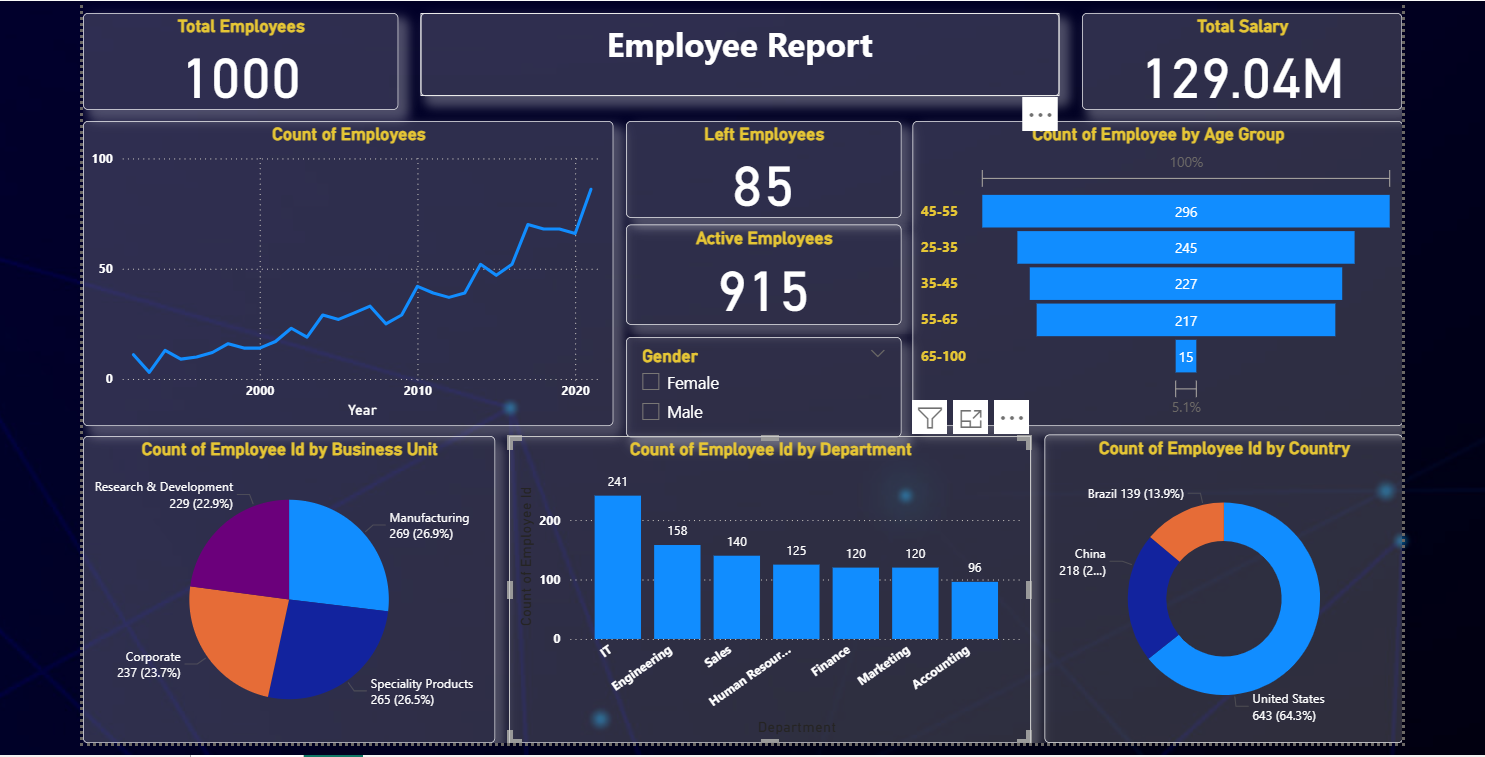

The dashboard page shown, as its layout file describes it:
{"tool":"powerbi","page":{"name":"Page 1","canvas":[1280,720],"ordinal":0},"visuals":[{"type":"lineChart","title":"Count of Employees","fields":{"Category":["Employee.Hire Date.Variation.Date Hierarchy.Year"],"Y":["CountNonNull(Employee.Employee Id)"]},"box":[0,116.6,514.9,296.3],"z":0},{"type":"funnel","title":"Count of Employee  by Age Group","fields":{"Category":["Employee.Age Group"],"Y":["CountNonNull(Employee.Employee Id)"]},"box":[804.8,116.6,476.1,296.3],"z":1000},{"type":"pieChart","fields":{"Category":["Employee.Business Unit"],"Y":["CountNonNull(Employee.Employee Id)"]},"box":[0,422.6,399.9,297.9],"z":2000},{"type":"columnChart","fields":{"Category":["Employee.Department"],"Y":["CountNonNull(Employee.Employee Id)"]},"box":[412.9,422.6,506.8,297.9],"z":3000},{"type":"card","title":"Total Employees","fields":{"Values":["CountNonNull(Employee.Employee Id)"]},"box":[0,11.3,306,93.9],"z":4000},{"type":"card","title":"Total Salary","fields":{"Values":["Sum(Employee.Total Anual Salary)"]},"box":[969.9,11.3,310.9,93.9],"z":5000},{"type":"card","title":"Left Employees","fields":{"Values":["Sum(Employee.Exit Status)"]},"box":[526.2,116.6,267.2,93.9],"z":6000},{"type":"card","title":"Active Employees","fields":{"Values":["Employee.Active Employees"]},"box":[526.2,217,267.2,97.2],"z":7000},{"type":"textbox","box":[327.1,11.3,620.2,81],"z":8000},{"type":"donutChart","fields":{"Category":["Employee.Country"],"Y":["CountNonNull(Employee.Employee Id)"]},"box":[932.7,421,348.1,299.6],"z":9000},{"type":"slicer","fields":{"Values":["Employee.Gender"]},"box":[526.2,325.5,267.2,97.2],"z":10000}]}

Visuals, with their boxes in screenshot pixels (x1, y1, x2, y2):
"Count of Employees" lineChart: region(73, 121, 608, 429)
"Count of Employee  by Age Group" funnel: region(909, 121, 1403, 429)
pieChart - Employee.Business Unit x CountNonNull(Employee.Employee Id): region(73, 439, 489, 748)
columnChart - Employee.Department x CountNonNull(Employee.Employee Id): region(502, 439, 1028, 748)
"Total Employees" card: region(73, 12, 391, 109)
"Total Salary" card: region(1080, 12, 1403, 109)
"Left Employees" card: region(620, 121, 897, 219)
"Active Employees" card: region(620, 225, 897, 326)
textbox: region(413, 12, 1057, 96)
donutChart - Employee.Country x CountNonNull(Employee.Employee Id): region(1042, 437, 1403, 748)
slicer - Employee.Gender: region(620, 338, 897, 439)
